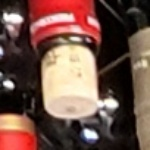bottle: (23, 13, 110, 92)
